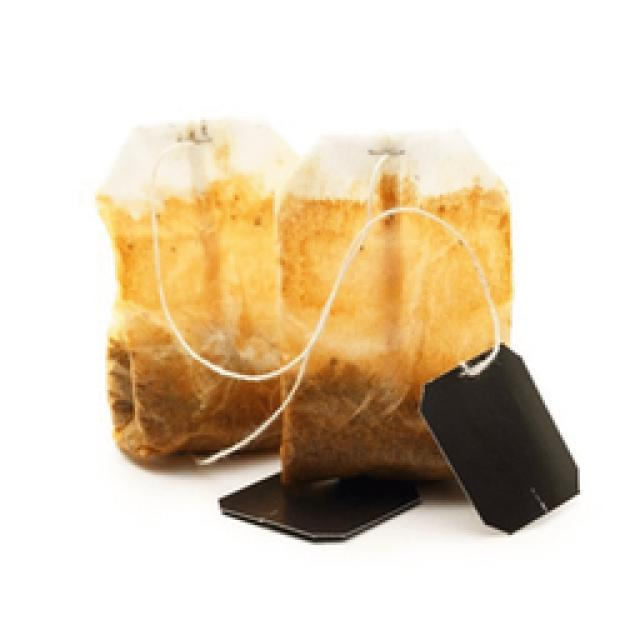tea-bags: (217, 132, 579, 543), (96, 119, 303, 462)
